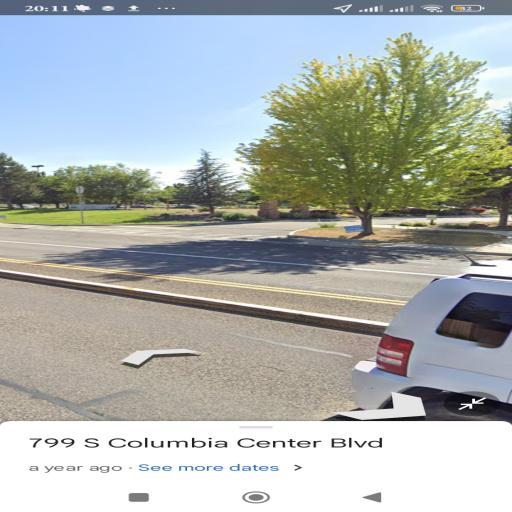Roads: (14, 218, 512, 412)
Trees: (190, 24, 496, 246), (10, 147, 238, 207)
